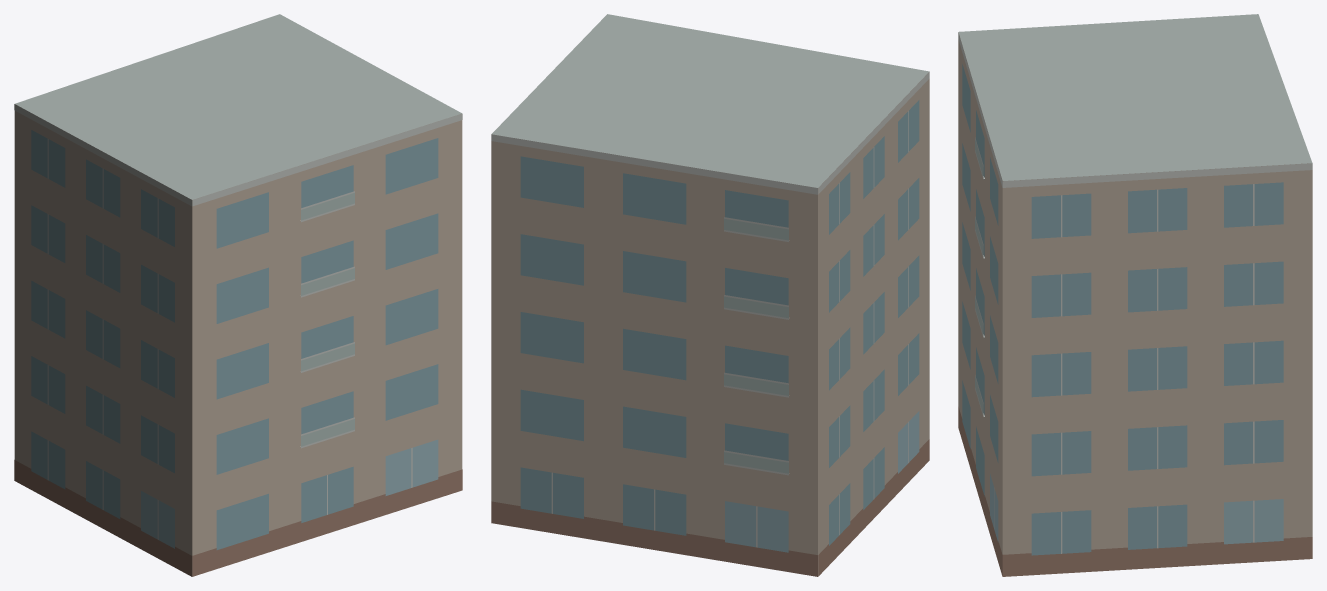
The model's file is survey-upis-32905565.glb.
The picture shows the model from 3 angles, left to right: view 1: azimuth 30°, elevation 25°; view 2: azimuth 150°, elevation 25°; view 3: azimuth 270°, elevation 25°; orthographic projection. The views are drawn at different scales.
Visible parts, largest first — view 1: survey-upis-32905565.tmp; view 2: survey-upis-32905565.tmp; view 3: survey-upis-32905565.tmp.
Boxes of the visible parts, box(x1,y1,x2,y2) form: survey-upis-32905565.tmp: box(14, 14, 462, 576); survey-upis-32905565.tmp: box(491, 14, 929, 576); survey-upis-32905565.tmp: box(958, 14, 1312, 576).
Bounding box in the file's own units: 12.69 × 14 × 11.36.
